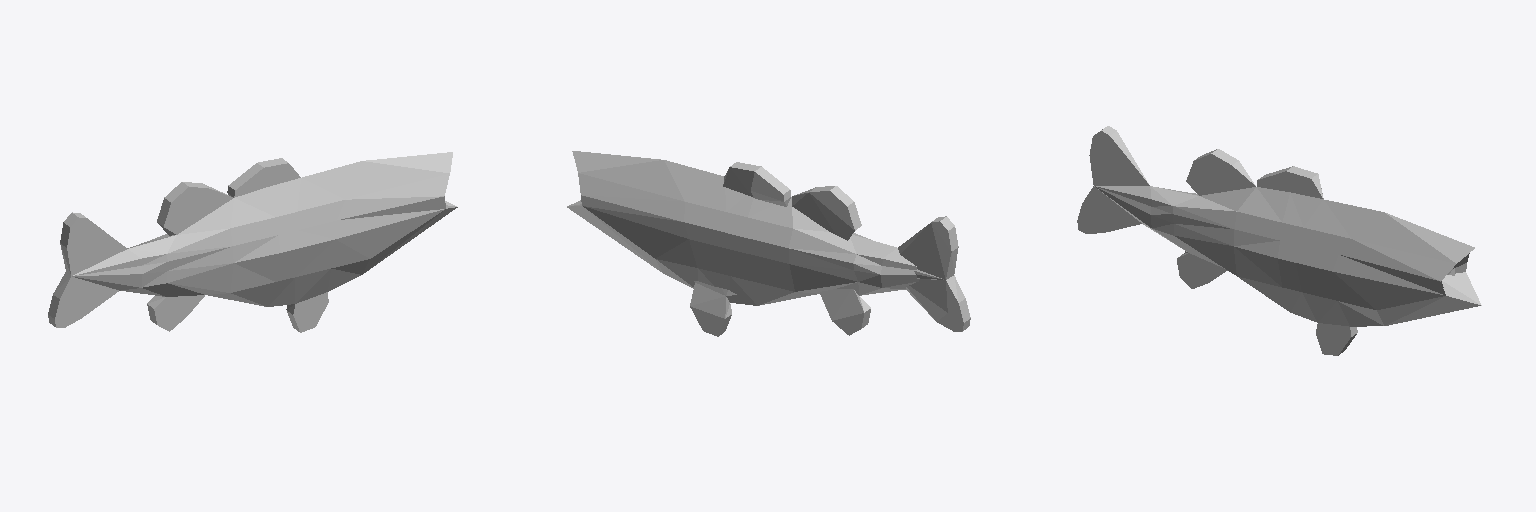
Rendered from algoryba.obj.
3 views of the same model, side by side, from view 1: azimuth 30°, elevation 25°; view 2: azimuth 150°, elevation 25°; view 3: azimuth 330°, elevation 25° (orthographic).
Parts seen in each view (by area): view 1: Cube.002_Cube.001; view 2: Cube.002_Cube.001; view 3: Cube.002_Cube.001.
Part boxes in pixels (x1,y1,x2,y2): Cube.002_Cube.001: (48,152,457,332); Cube.002_Cube.001: (567,151,970,336); Cube.002_Cube.001: (1077,126,1481,355).
Size of the model in its own units: 1.4 by 0.5748 by 0.1657.